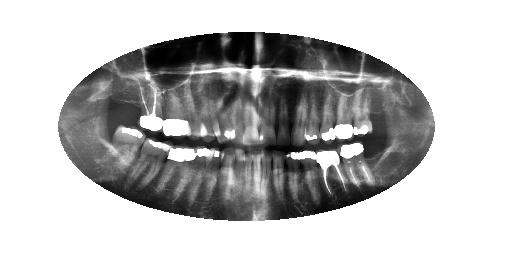i10healthy: (244, 149, 253, 196)
i11healthy: (233, 147, 246, 198)
i12healthy: (221, 145, 235, 201)
i13chipped: (190, 145, 225, 209)
i14healthy: (158, 148, 198, 203)
i15healthy: (128, 136, 176, 192)
i16healthy: (109, 124, 148, 180)
i1loss: (365, 134, 395, 183)
i2healthy: (337, 140, 377, 189)
i3healthy: (314, 146, 347, 195)
i4healthy: (299, 149, 321, 203)
i5healthy: (288, 152, 302, 204)
i6loss: (281, 151, 291, 198)
i7healthy: (272, 150, 283, 198)
i8healthy: (263, 150, 273, 197)
i9healthy: (252, 150, 262, 196)
u10healthy: (230, 88, 242, 144)
u11healthy: (214, 85, 229, 146)
u12healthy: (201, 69, 222, 143)
u13healthy: (185, 81, 207, 141)
u14healthy: (163, 86, 192, 139)
u15healthy: (139, 84, 165, 132)
u16loss: (115, 85, 139, 125)
u1loss: (369, 83, 389, 133)
u2healthy: (352, 85, 373, 136)
u3healthy: (332, 89, 356, 141)
u4healthy: (317, 86, 336, 142)
u5healthy: (304, 81, 319, 143)
u6healthy: (291, 87, 308, 146)
u7healthy: (275, 92, 291, 145)
u8healthy: (260, 95, 277, 145)
u9healthy: (242, 97, 260, 145)
